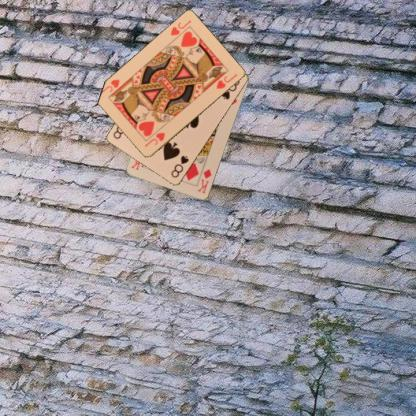8s: (168, 153, 190, 179)
Jh: (168, 18, 193, 37), (142, 130, 167, 148)
Kd: (194, 166, 212, 195)
